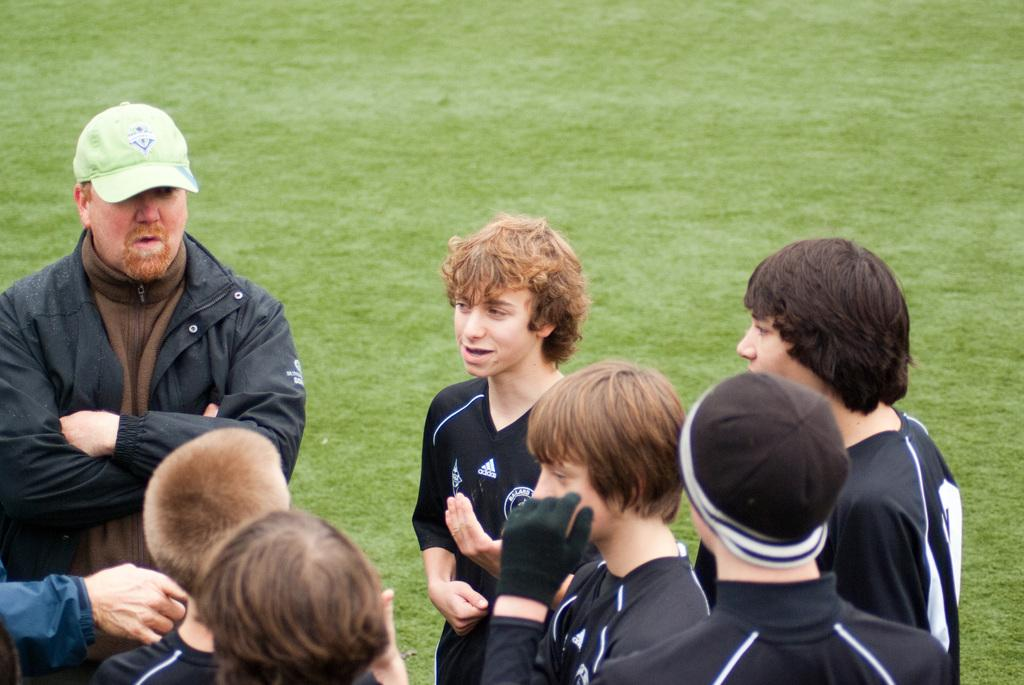Hat: (72, 100, 204, 205)
